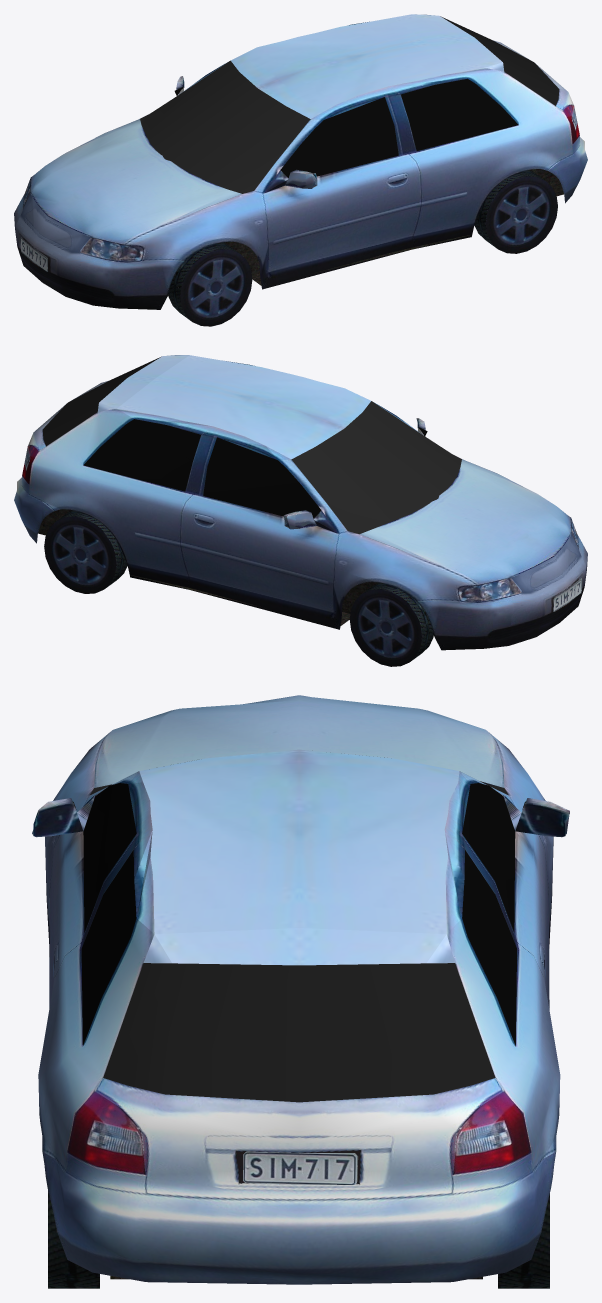
Rendered from car_1.gltf.
3 views of the same model, one above another, from view 1: azimuth 30°, elevation 25°; view 2: azimuth 150°, elevation 25°; view 3: azimuth 270°, elevation 25° (orthographic). The views are drawn at different scales.
Visible parts, largest first — view 1: 轿车02; view 2: 轿车02; view 3: 轿车02.
Part boxes in pixels (left/top/right/bottom): 轿车02: left=14, top=14, right=587, bottom=326; 轿车02: left=14, top=355, right=587, bottom=666; 轿车02: left=32, top=695, right=569, bottom=1288.
Bounding box in the file's own units: 4.29 × 1.39 × 1.93.
21 materials, 16 textured.
